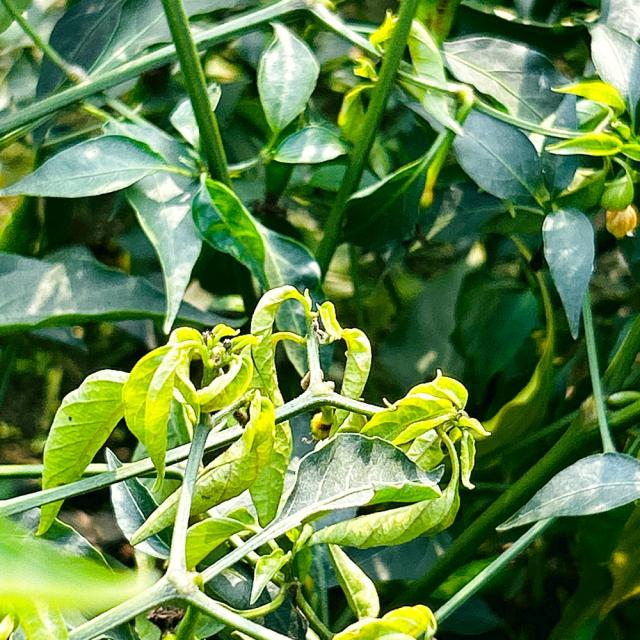Chilli_Leaf_Curl: (1, 1, 638, 637), (12, 283, 488, 637), (1, 117, 204, 334), (451, 108, 596, 339), (120, 321, 258, 491), (360, 368, 491, 491), (35, 368, 130, 536), (1, 131, 198, 199), (494, 450, 638, 532), (540, 205, 596, 340), (254, 20, 320, 134), (271, 124, 350, 164)
